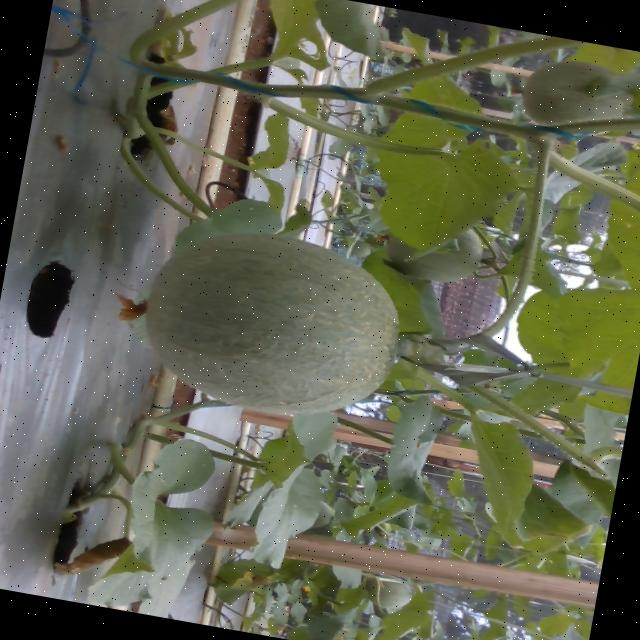melon: (145, 233, 397, 415)
